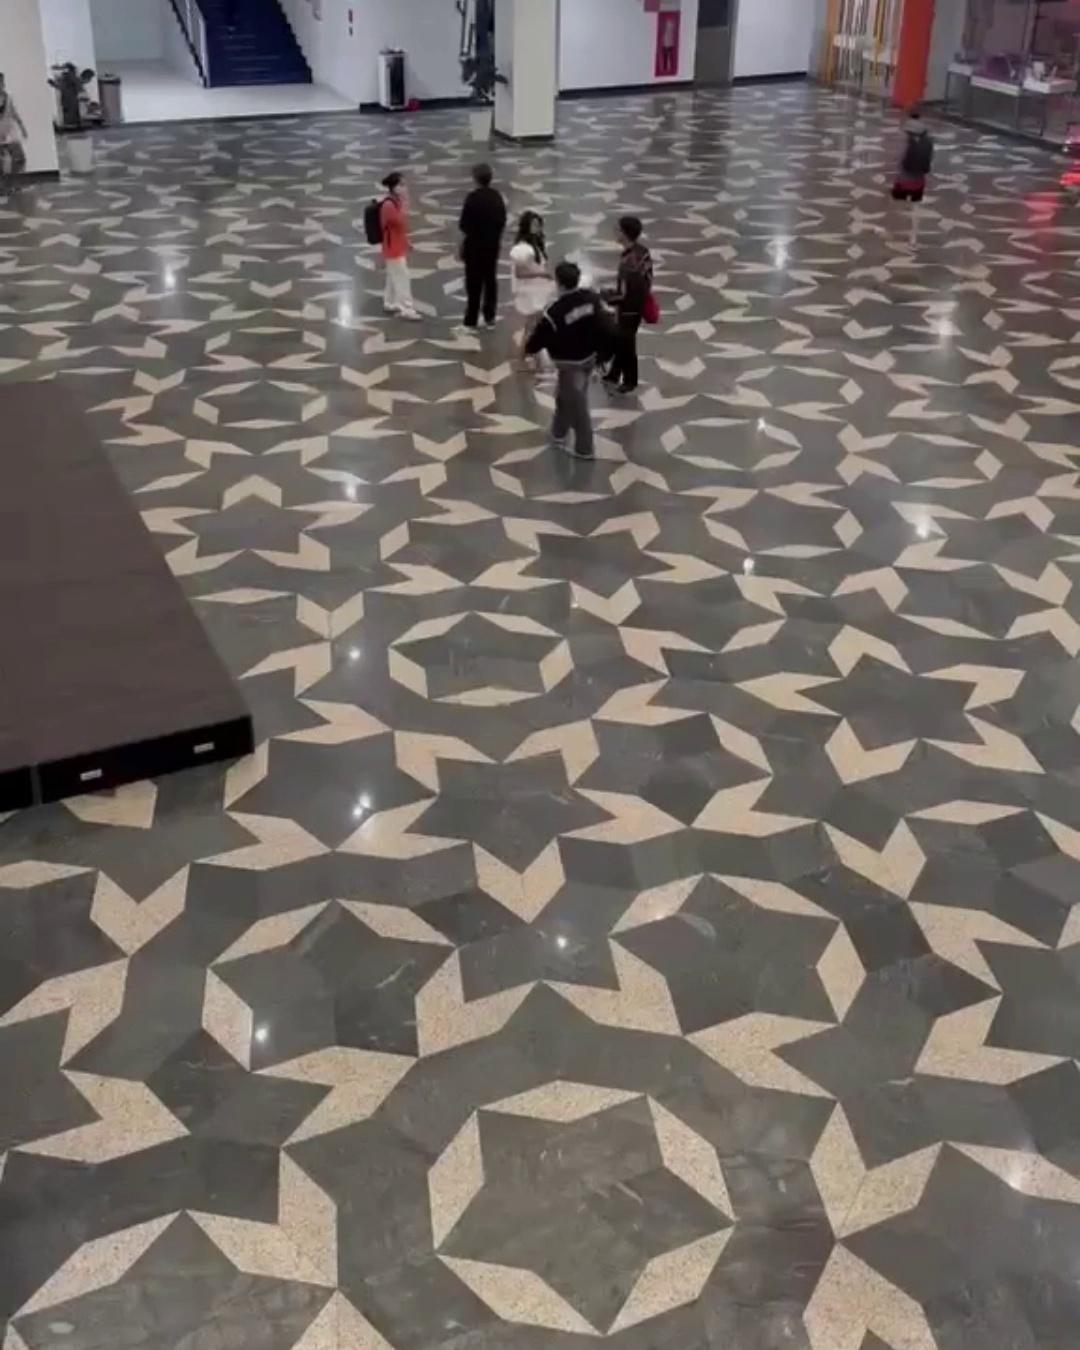your_class: (530, 253, 634, 465), (341, 145, 436, 355), (583, 193, 672, 393), (438, 151, 523, 347), (877, 80, 954, 288), (495, 193, 554, 381), (0, 61, 62, 217)
